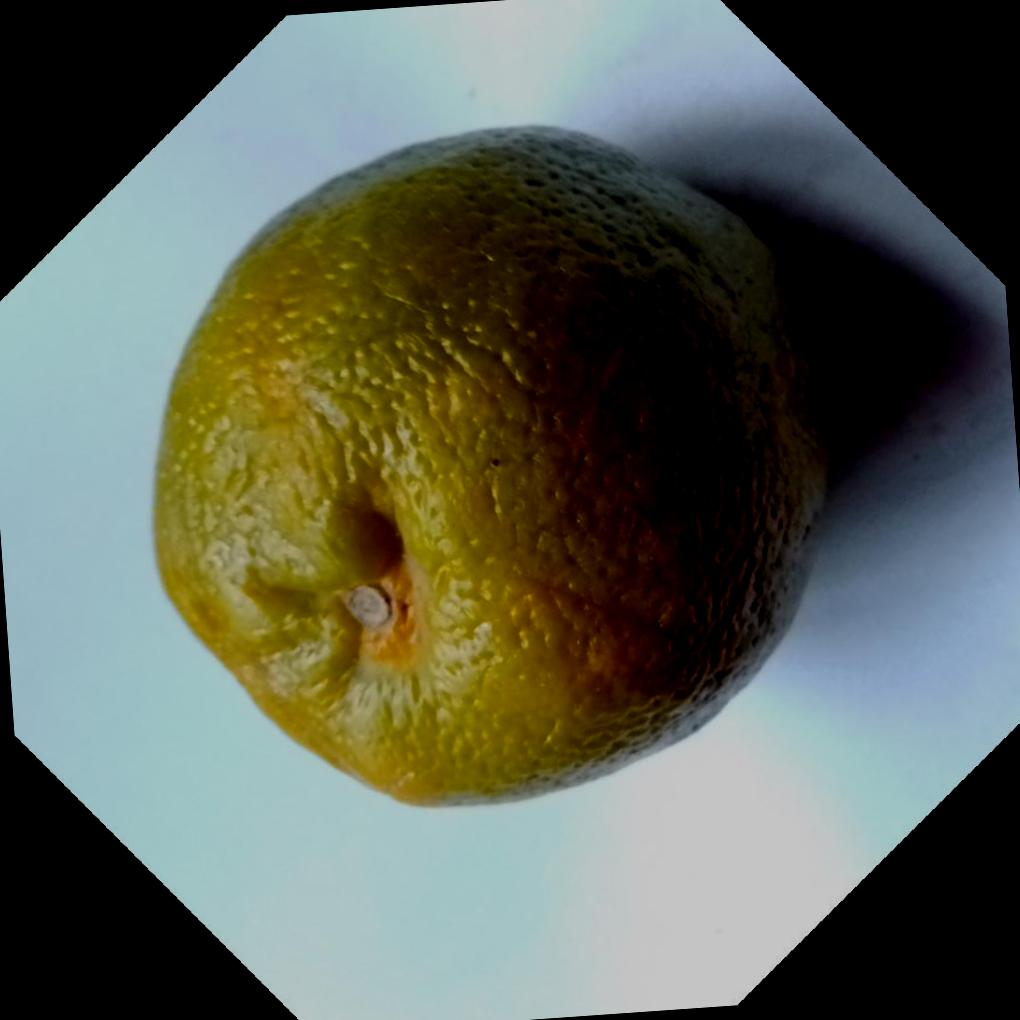FreshGuava: (152, 123, 840, 811)
